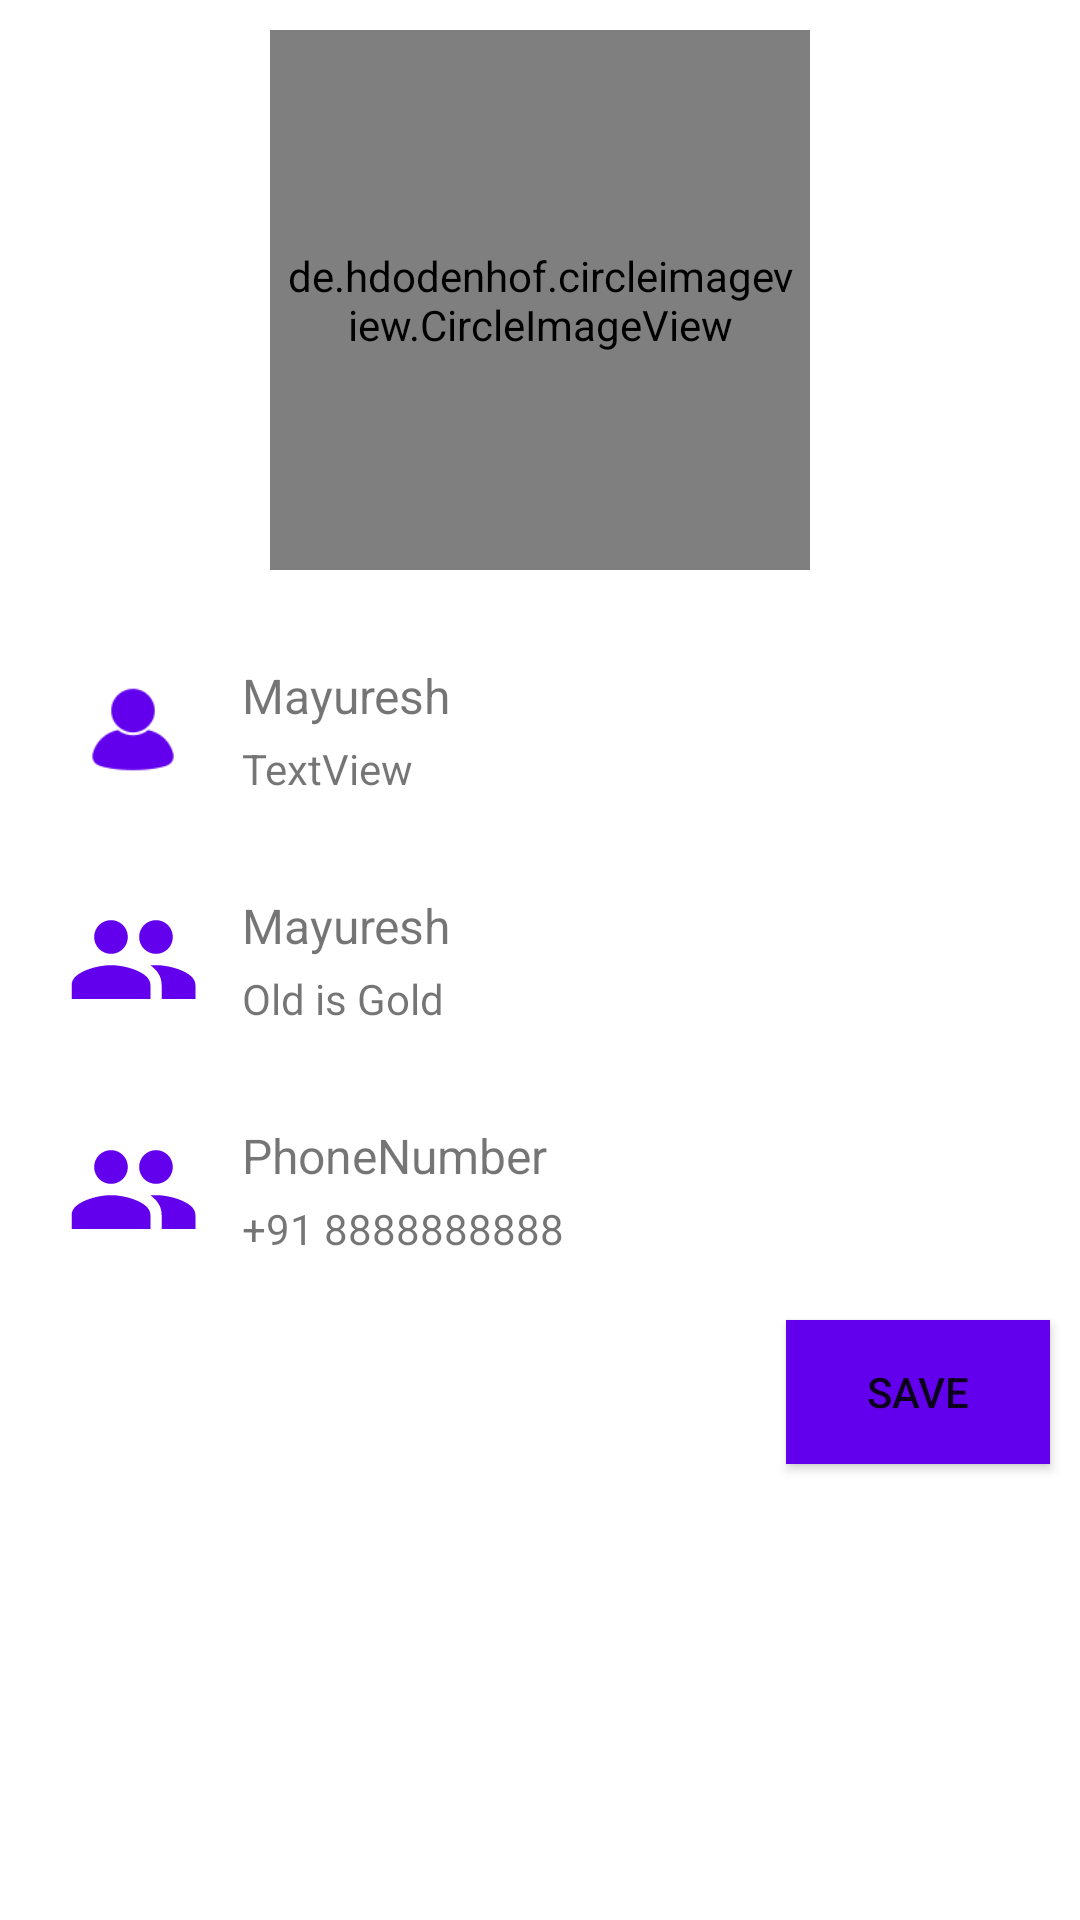

Icons on this 1080*1920 Android screen, each with the point to tap as (x,y):
user: (133,729)
